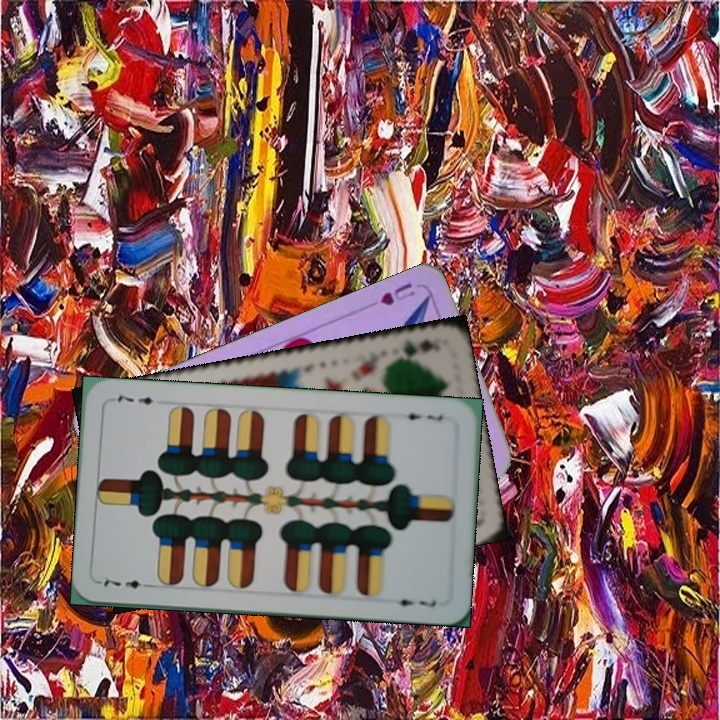E7: (96, 572, 155, 591), (396, 409, 445, 424)
GK: (387, 334, 443, 364)
HU: (376, 278, 418, 308)
